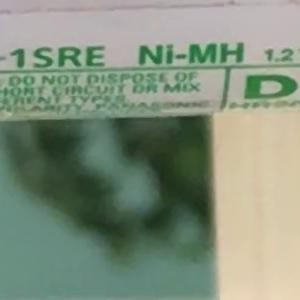NI-MH: (130, 33, 253, 88)
